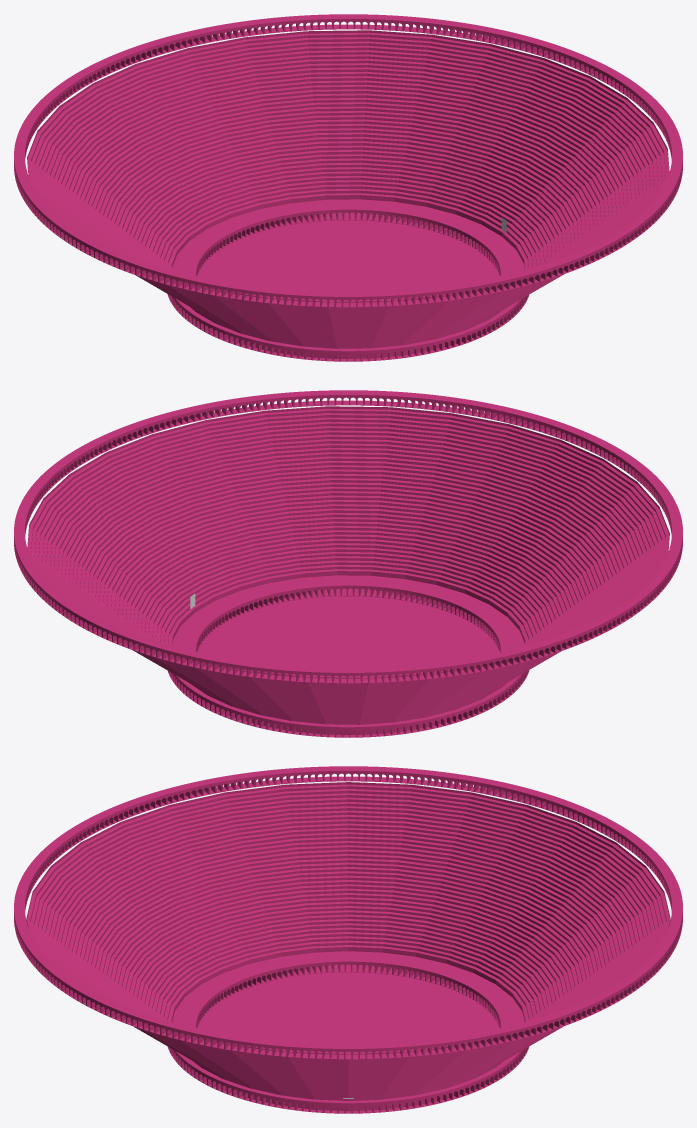
Rendered from bossRoom.fbx.
The picture shows the model from 3 angles, top to bottom: view 1: azimuth 30°, elevation 25°; view 2: azimuth 150°, elevation 25°; view 3: azimuth 270°, elevation 25°; orthographic projection.
Parts seen in each view (by area): view 1: BossRoom; view 2: BossRoom; view 3: BossRoom.
Boxes of the visible parts, box(x1,y1,x2,y2) form: BossRoom: box(14, 14, 682, 361); BossRoom: box(14, 390, 682, 737); BossRoom: box(14, 766, 682, 1113).
Size of the model in its own units: 8612 by 1832 by 8612.
